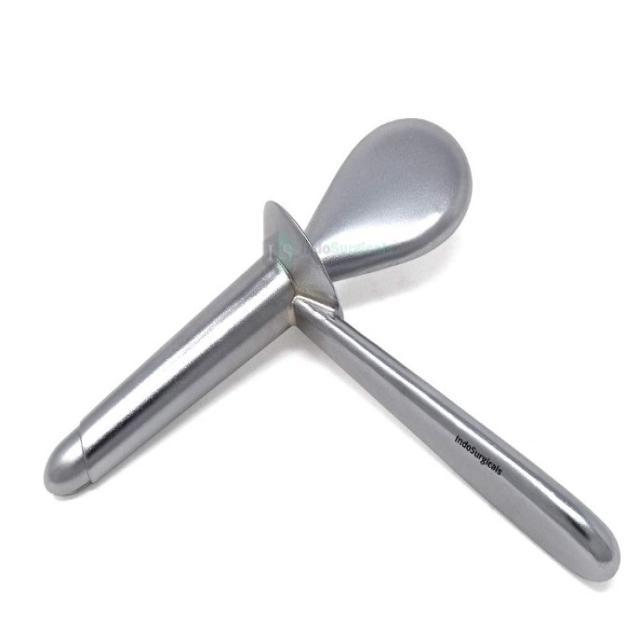Protoscope: (36, 109, 624, 588)
